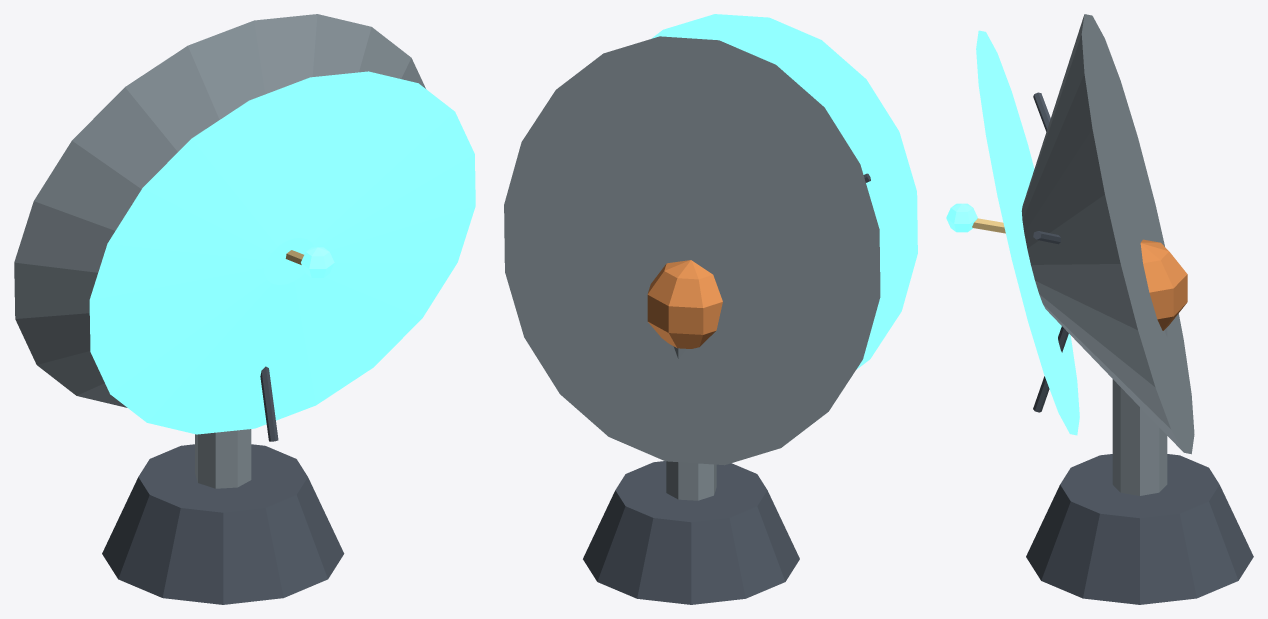
Rendered from sub_sonar_dish.glb.
3 renders of one model, left to right at view 1: azimuth 30°, elevation 25°; view 2: azimuth 150°, elevation 25°; view 3: azimuth 270°, elevation 25°, orthographic. The views are drawn at different scales.
Visible parts, largest first — view 1: sub_sonar_dish_glow, sub_sonar_dish_hull, sub_sonar_dish_dark; view 2: sub_sonar_dish_hull, sub_sonar_dish_dark, sub_sonar_dish_glow, sub_sonar_dish_accent; view 3: sub_sonar_dish_hull, sub_sonar_dish_dark, sub_sonar_dish_glow, sub_sonar_dish_accent.
Part boxes in pixels (left/top/right/bottom): sub_sonar_dish_glow: left=89, top=71, right=475, bottom=434; sub_sonar_dish_hull: left=14, top=14, right=425, bottom=488; sub_sonar_dish_dark: left=102, top=204, right=344, bottom=604; sub_sonar_dish_hull: left=504, top=36, right=880, bottom=500; sub_sonar_dish_dark: left=583, top=173, right=870, bottom=604; sub_sonar_dish_glow: left=651, top=14, right=917, bottom=369; sub_sonar_dish_accent: left=647, top=260, right=722, bottom=348; sub_sonar_dish_hull: left=1021, top=14, right=1194, bottom=495; sub_sonar_dish_dark: left=1026, top=92, right=1253, bottom=604; sub_sonar_dish_glow: left=946, top=30, right=1079, bottom=435; sub_sonar_dish_accent: left=1140, top=239, right=1187, bottom=330.
Size of the model in its own units: 2 by 2.53 by 1.35.
